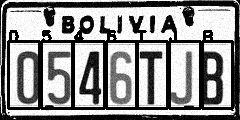0: (8, 41, 39, 108)
4: (73, 41, 104, 108)
5: (41, 41, 72, 108)
6: (106, 41, 136, 108)
B: (202, 41, 232, 108)
J: (169, 41, 200, 108)
T: (137, 41, 167, 108)
